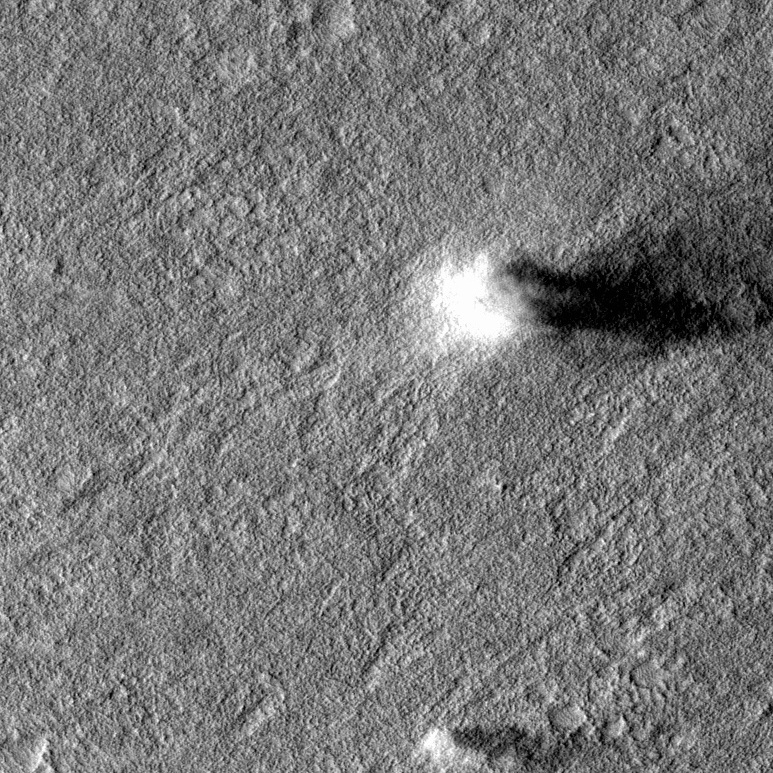dust_devil: (427, 243, 773, 362), (417, 720, 591, 773)
